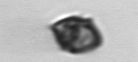plankton: (45, 11, 109, 59)
